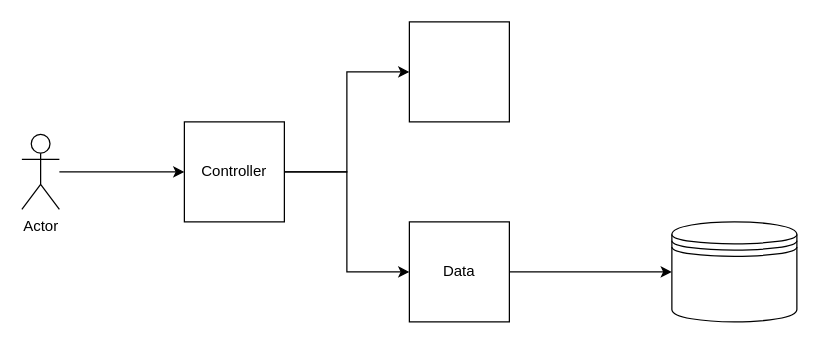
The diagram is 819 pixels wide and 344 high, and some of its shapes have lost their labels. Each missing label, with the centre of its shape:
"Logic" goes at (x=458, y=71).
"SensitiveWord" goes at (x=734, y=271).
